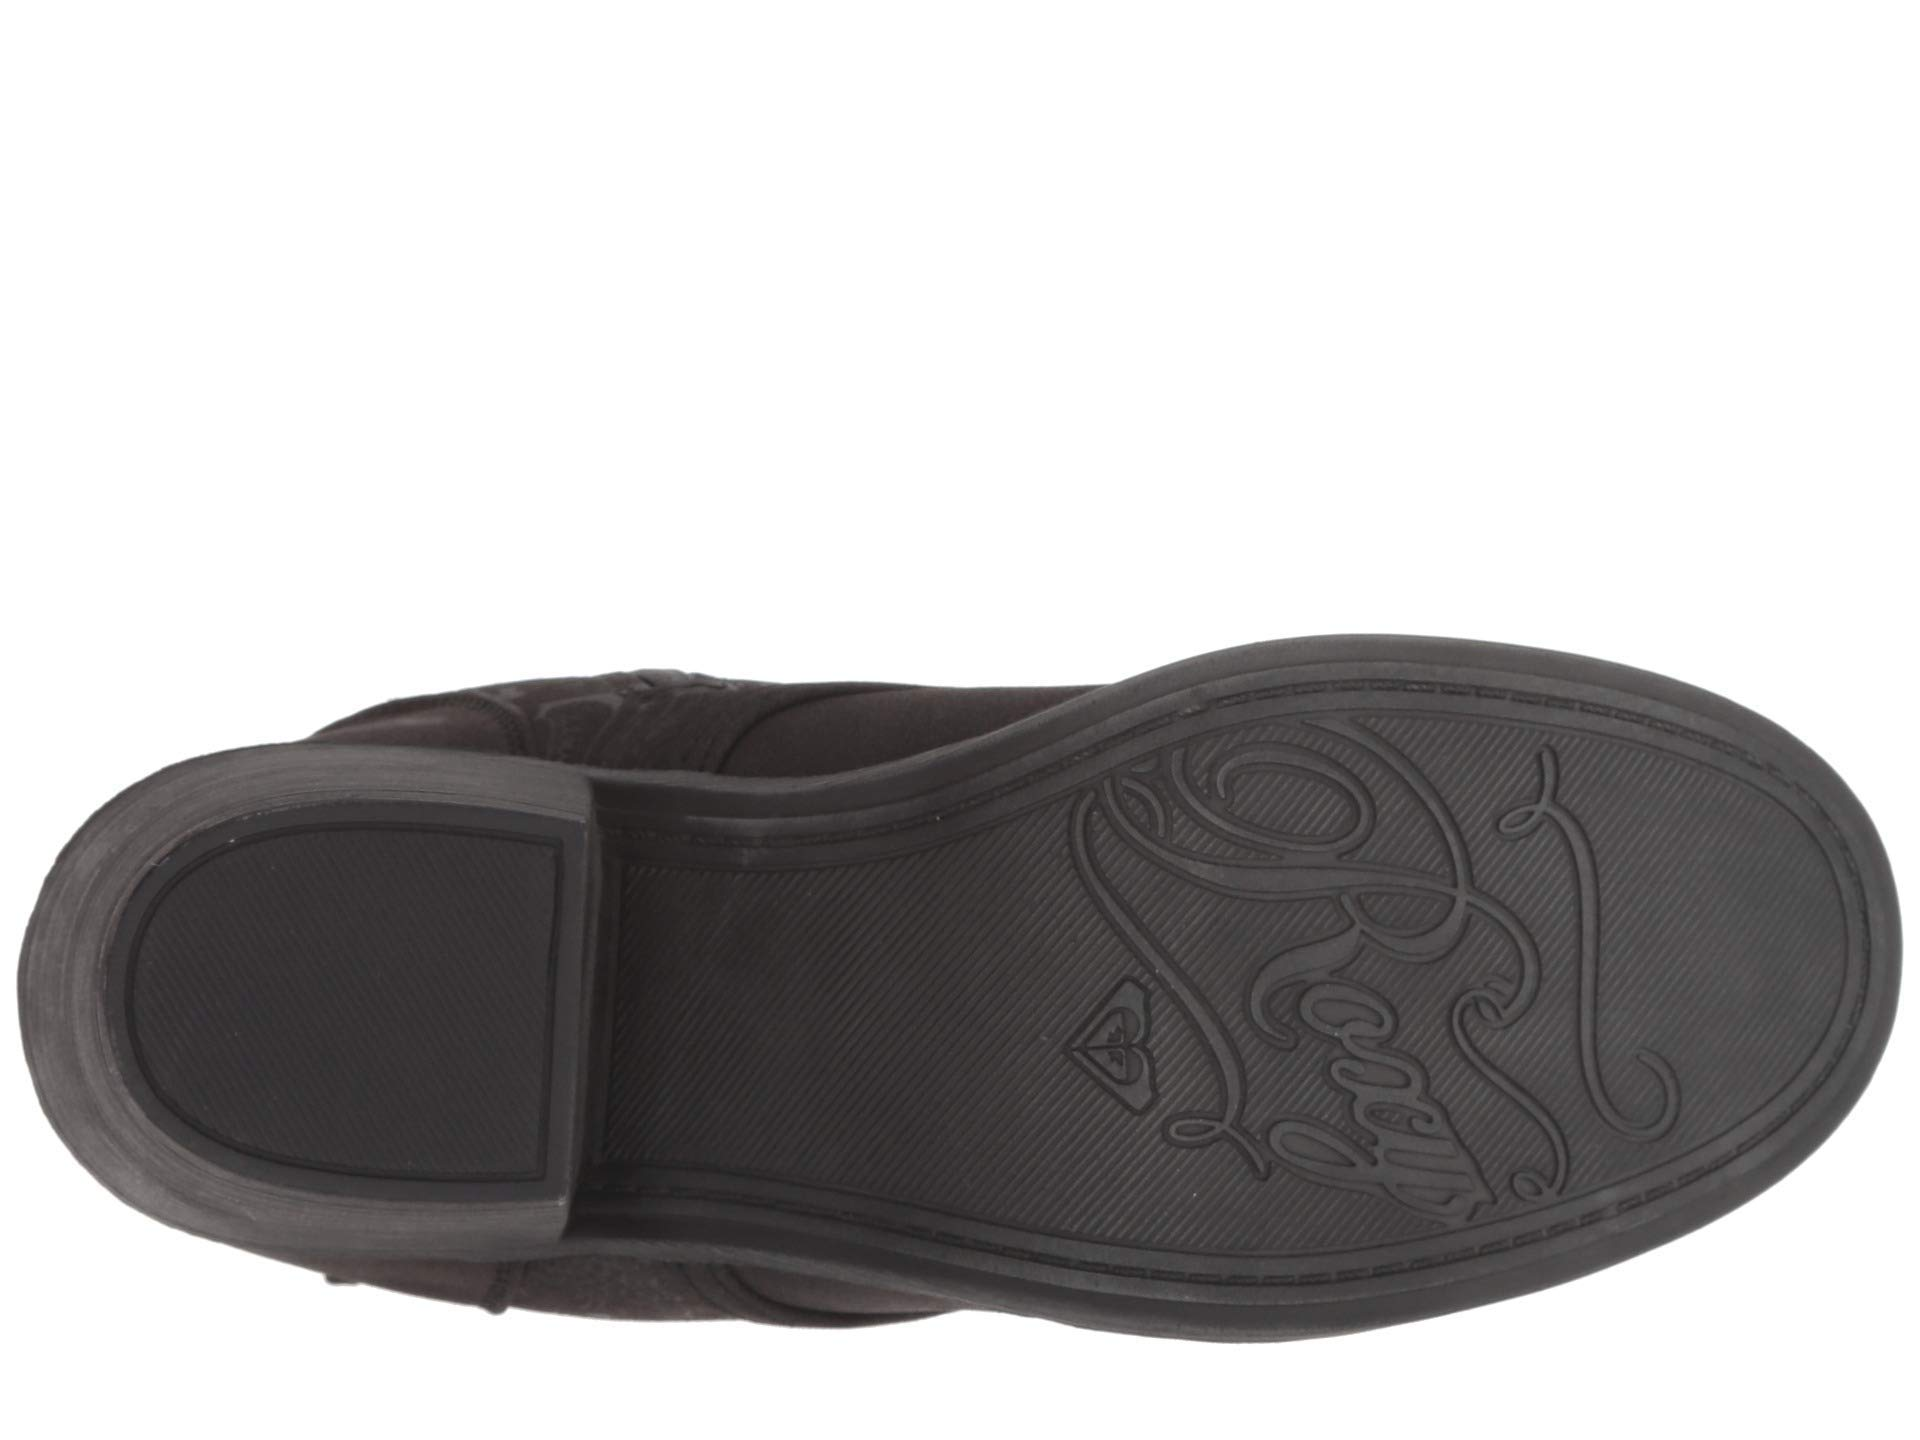circle: (1150, 743, 1683, 1204)
line: (1150, 743, 1683, 1204)
text: (1150, 743, 1683, 1204)
